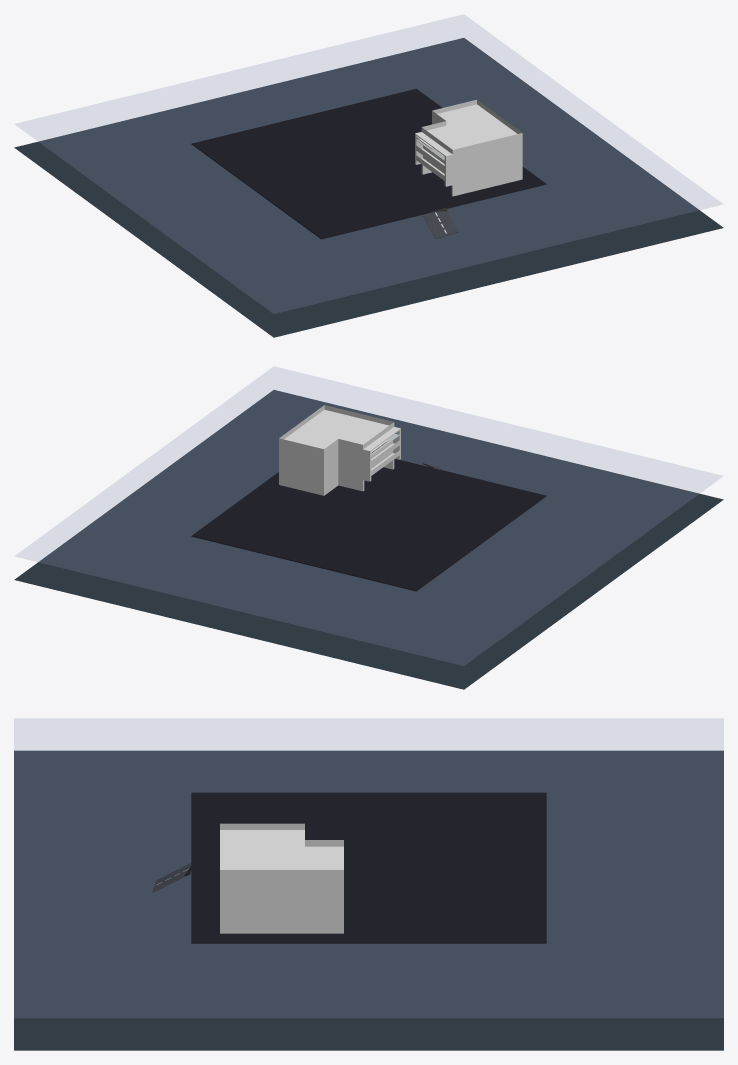
File: tidal wreck.glb
3 views of the same model, one above another, from view 1: azimuth 30°, elevation 25°; view 2: azimuth 150°, elevation 25°; view 3: azimuth 270°, elevation 25° (orthographic). The views are drawn at different scales.
Parts seen in each view (by area): view 1: Sea bottom, Sea, Ground, daire-main, Slope; view 2: Sea bottom, Sea, Ground, daire-main; view 3: Sea bottom, Sea, Ground, daire-main.
Boxes of the visible parts, x1=… form: Sea bottom: x1=14, y1=38, x2=723, y2=337; Sea: x1=15, y1=14, x2=722, y2=313; Ground: x1=191, y1=89, x2=546, y2=239; daire-main: x1=415, y1=99, x2=522, y2=196; Slope: x1=422, y1=207, x2=458, y2=239; Sea bottom: x1=14, y1=390, x2=723, y2=689; Sea: x1=15, y1=366, x2=722, y2=665; Ground: x1=191, y1=459, x2=546, y2=591; daire-main: x1=279, y1=405, x2=400, y2=495; Sea bottom: x1=14, y1=750, x2=723, y2=1050; Sea: x1=14, y1=718, x2=723, y2=1017; Ground: x1=191, y1=792, x2=546, y2=943; daire-main: x1=220, y1=823, x2=343, y2=933.
Size of the model in its own units: 100 by 15 by 100.
Materials: 7 (1 with a texture image).
